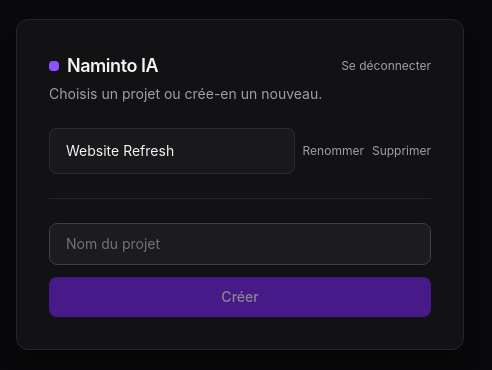
Scenario: ProjectPicker › rename › cancelling a rename leaves the project unchanged
expect the button "Website Refresh" is shown: met, box [49,128,295,174]
Click the button "Renommer" at x=333, y=150, box [303,142,364,158]
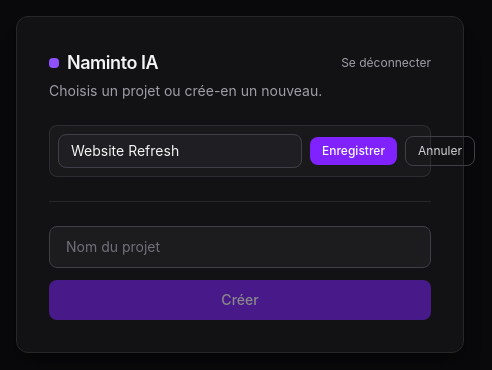
Replace the text in the field showing "Website Refresh" with "Ignored" at x=180, y=150, box [58,134,302,168]
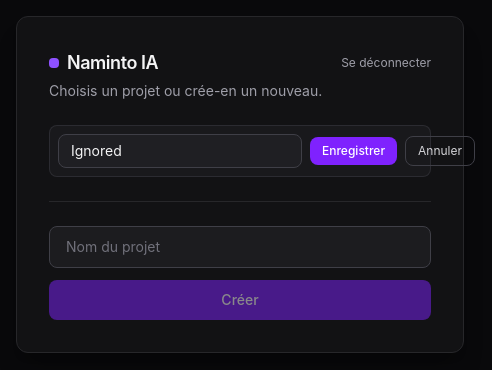
Click the button "Annuler" at x=440, y=150, box [405,136,475,166]
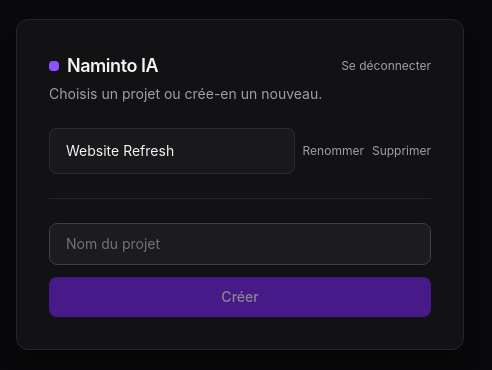
expect the text "Ignored" is not shown: met
expect the button "Website Refresh" is shown: met, box [49,128,295,174]
